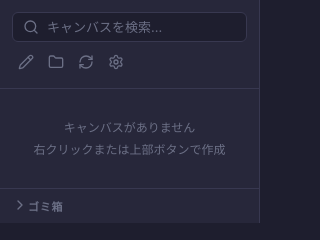
Scenario: Sidebar › コンテキストメニュー › ルート領域を右クリックするとコンテキストメニューが表示される
Step 1. Right-click the element with class "sidebar-tree" → point(130, 128), box [34,120,226,157]
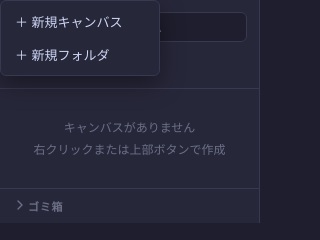
Expected: the button "＋ 新規キャンバス" is shown, [5,5,155,38]
Expected: the button "＋ 新規フォルダ" is shown, [5,38,155,71]
